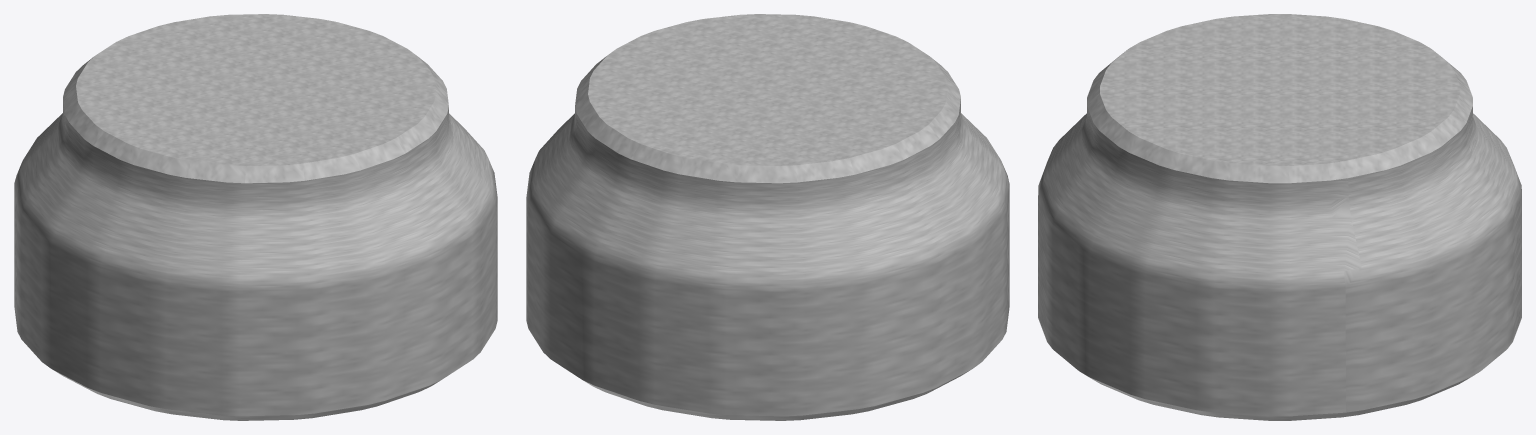
Rendered from Holigram Projector.fbx.
3 views of the same model, side by side, from view 1: azimuth 30°, elevation 25°; view 2: azimuth 150°, elevation 25°; view 3: azimuth 270°, elevation 25° (orthographic).
Parts seen in each view (by area): view 1: Holigram_Projector; view 2: Holigram_Projector; view 3: Holigram_Projector.
Boxes of the visible parts, left/top/right/bottom form: Holigram_Projector: left=14, top=14, right=497, bottom=420; Holigram_Projector: left=526, top=14, right=1009, bottom=420; Holigram_Projector: left=1038, top=14, right=1521, bottom=420.
Size of the model in its own units: 607 by 325 by 607.
